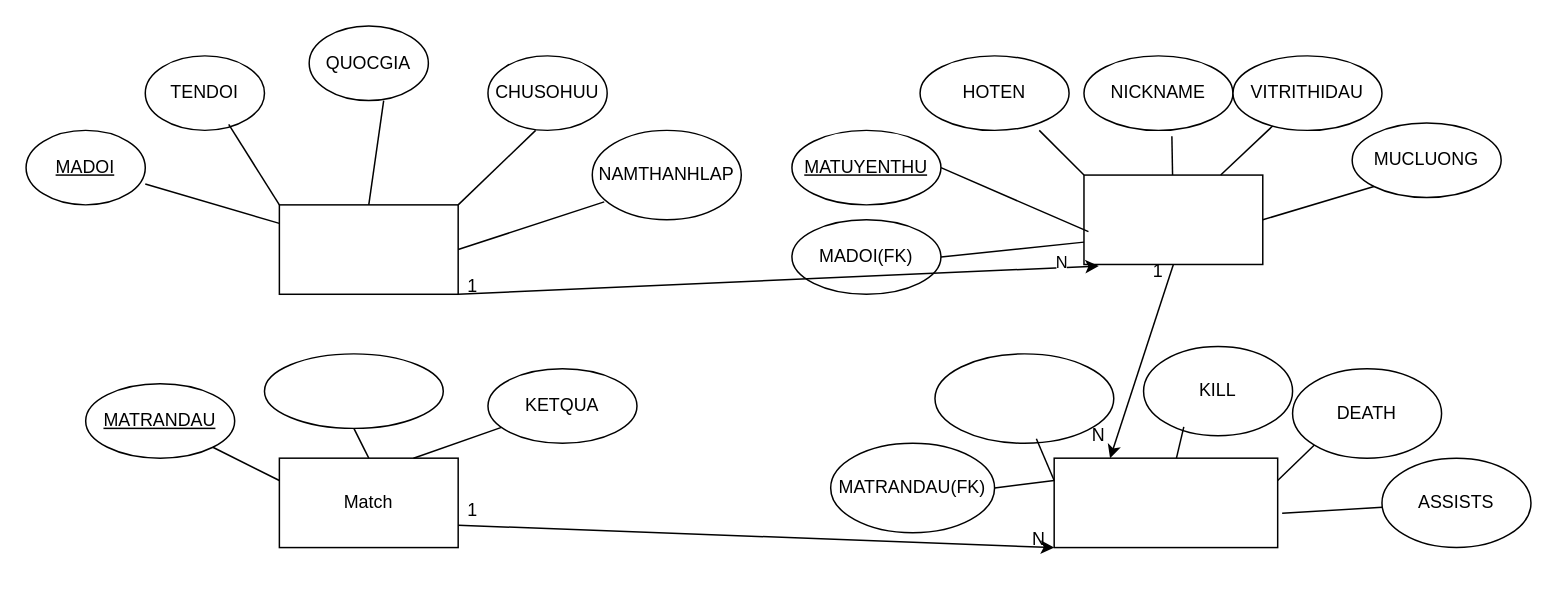
Some shapes in this 1557 by 589 pixel diagram are drawn without their labels. Here are the shapes that lost their labels. From the top down, the box of each, then its label:
(1082, 174, 1263, 264): Player
(278, 203, 458, 294): Team
(263, 352, 443, 428): THOIGIANBATDAU
(933, 352, 1114, 443): MATUYENTHU(FK)
(1053, 457, 1278, 548): Match_Statistic
